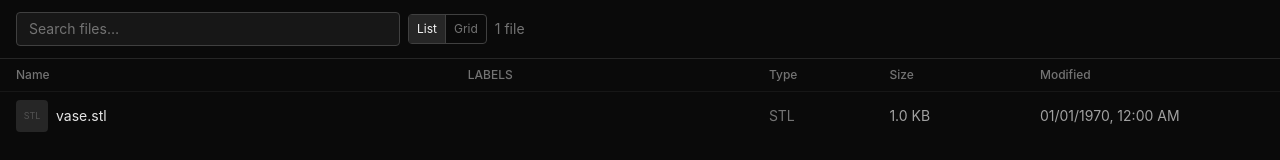
Test case: FileList search field › shows a clear button once text is entered, and clicking it empties the field
Type "vase" into the field with placeholder "Search files…" at (208, 29), box 16,12 -> 400,46
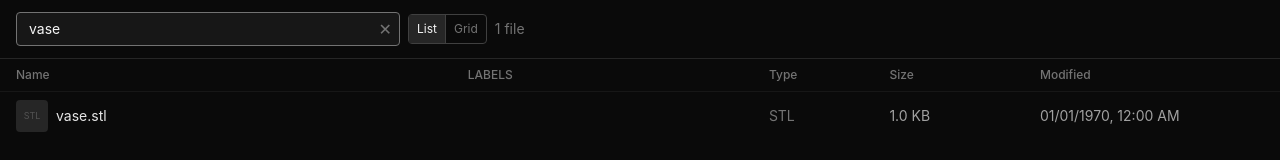
Click the button named "Clear search" at (385, 29), box 371,12 -> 400,46
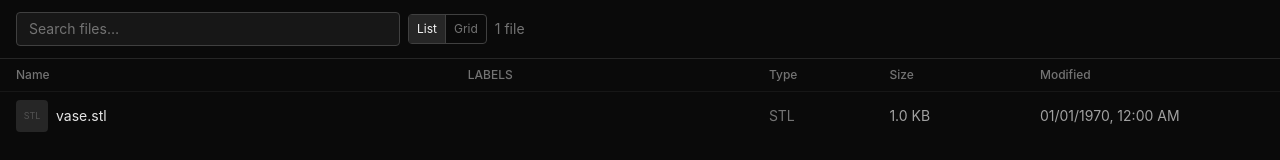
Now the field with placeholder "Search files…" is empty, box 16,12 -> 400,46
